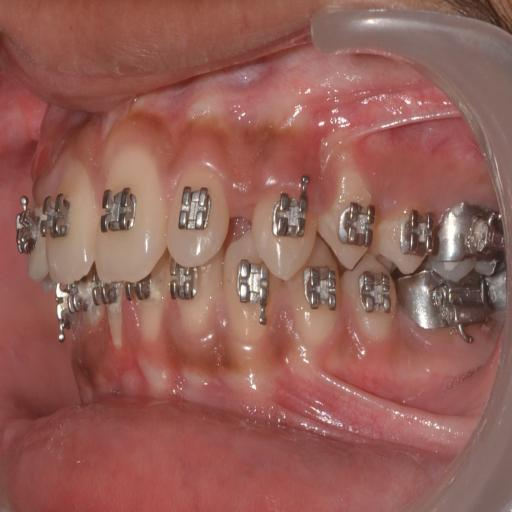correct_brace: (316, 164, 377, 272), (270, 173, 313, 250), (95, 184, 139, 237), (176, 183, 216, 239)
incorrect_brace: (163, 156, 232, 272), (332, 194, 376, 254)
